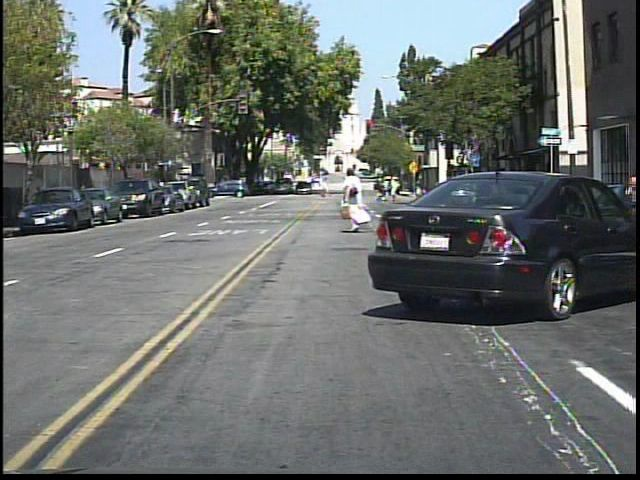person: (337, 165, 368, 236), (621, 164, 639, 231), (515, 165, 535, 225), (333, 173, 353, 208), (385, 173, 405, 207)
